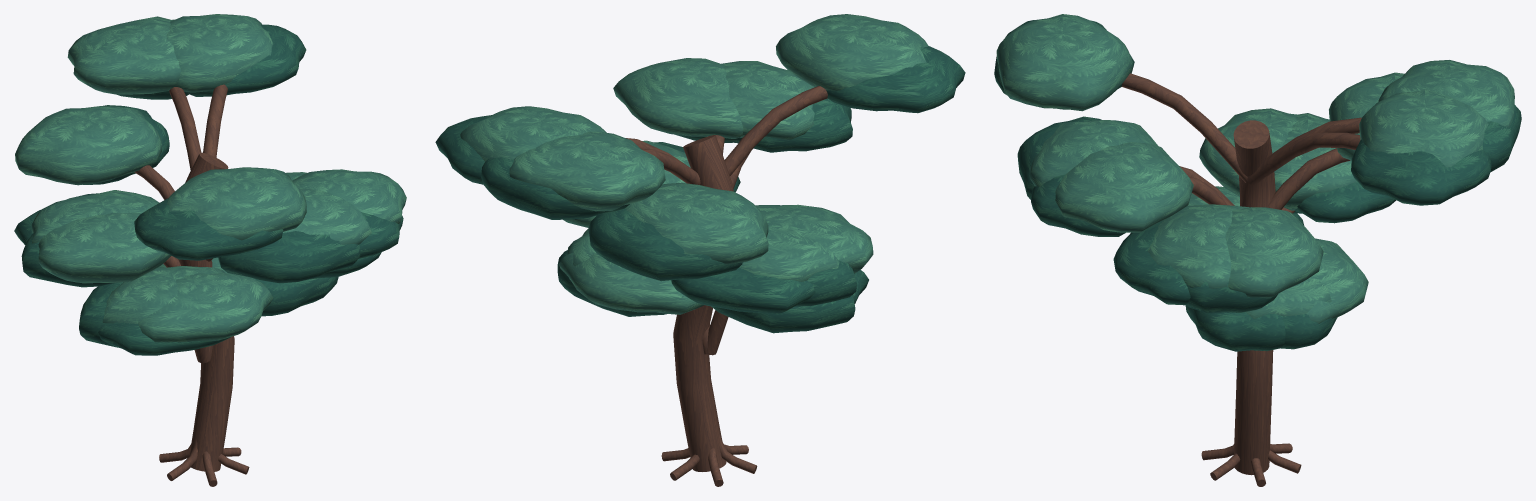
The model's file is tree_2.glb.
The picture shows the model from 3 angles, left to right: view 1: azimuth 30°, elevation 25°; view 2: azimuth 150°, elevation 25°; view 3: azimuth 270°, elevation 25°; orthographic projection. The views are drawn at different scales.
Parts seen in each view (by area): view 1: tree_2; view 2: tree_2; view 3: tree_2.
Part boxes in pixels (left/top/right/bottom): tree_2: left=14, top=14, right=406, bottom=486; tree_2: left=435, top=14, right=965, bottom=486; tree_2: left=994, top=14, right=1521, bottom=486.
Bounding box in the file's own units: 5.2 × 5.43 × 6.43.
Materials: 1 (1 with a texture image).
